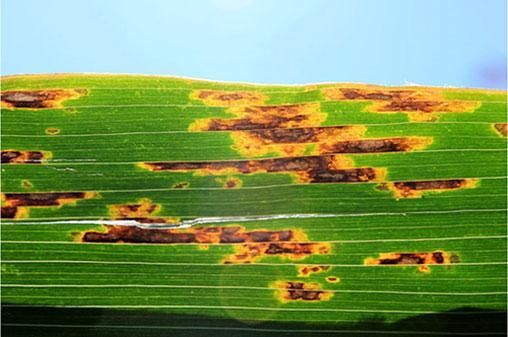Gray_Leaf_Spot: (198, 62, 424, 203), (68, 194, 323, 249), (0, 78, 100, 118), (354, 244, 460, 280), (0, 188, 100, 225), (275, 256, 346, 307), (385, 78, 485, 114), (135, 154, 214, 194), (174, 63, 214, 136), (406, 169, 481, 193), (0, 144, 64, 168), (486, 115, 508, 144), (40, 127, 71, 137)
